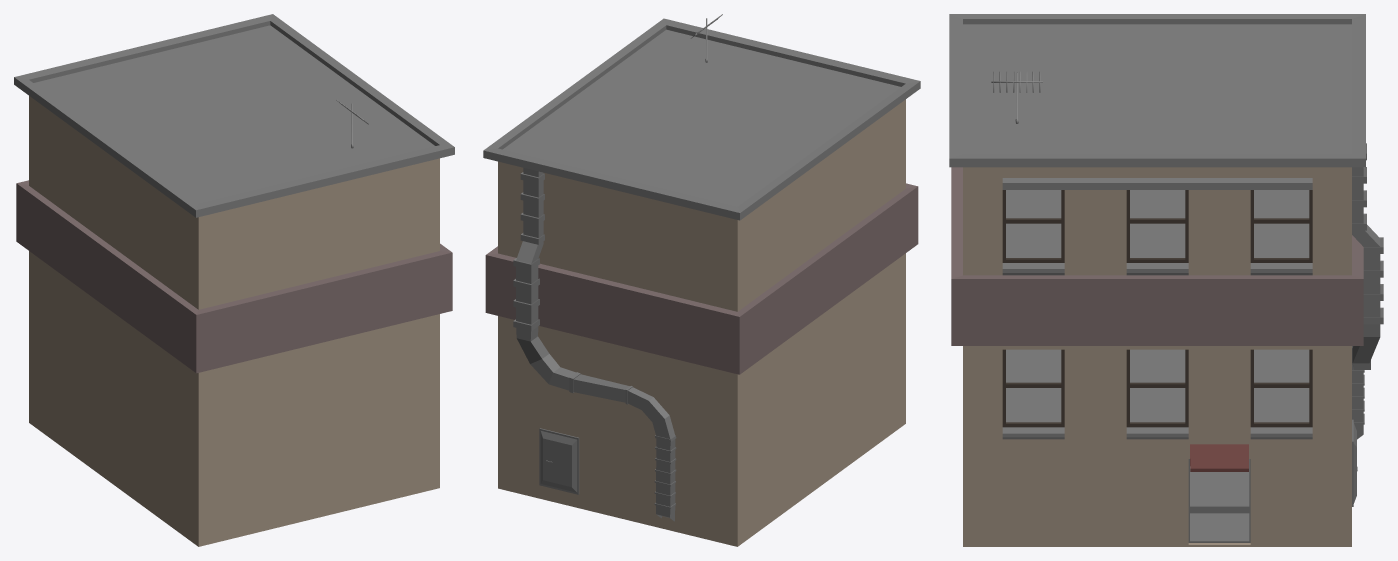
File: Edificio1.fbx
3 renders of one model, left to right at view 1: azimuth 30°, elevation 25°; view 2: azimuth 150°, elevation 25°; view 3: azimuth 270°, elevation 25°, orthographic. The views are drawn at different scales.
Parts seen in each view (by area): view 1: Cube; view 2: Cube; view 3: Cube.
Boxes of the visible parts, bbox=[...] form: Cube: bbox=[14, 14, 454, 546]; Cube: bbox=[483, 14, 920, 546]; Cube: bbox=[949, 14, 1383, 546].
Size of the model in its own units: 1010 by 1340 by 1204.
